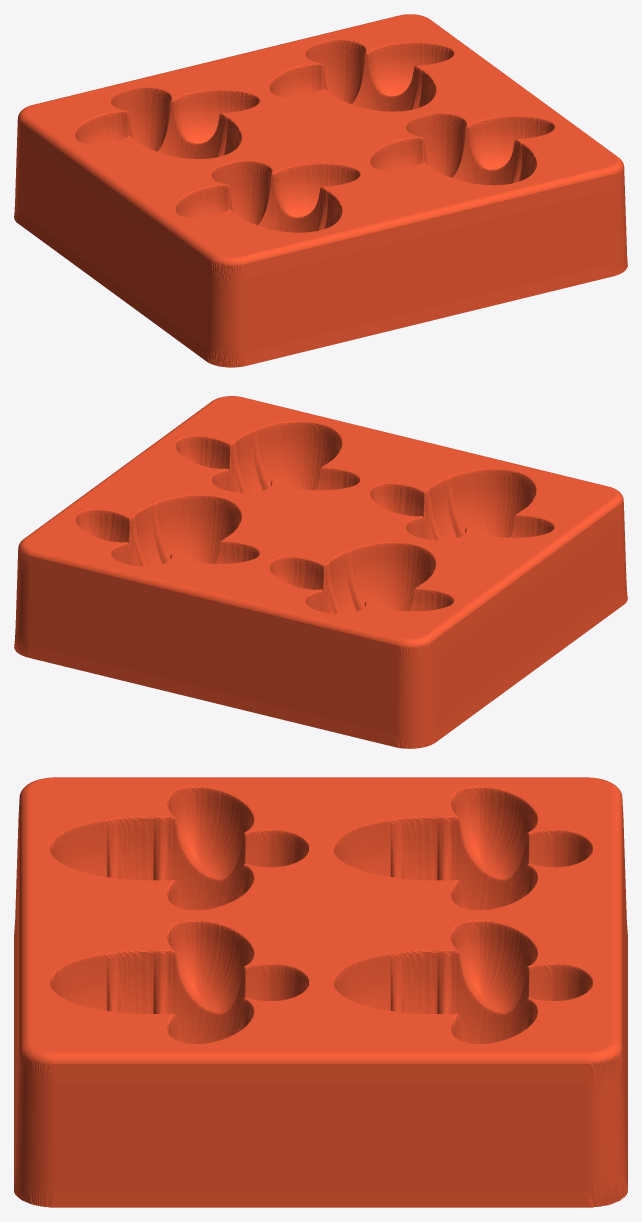
The model's file is mold.glb.
3 views of the same model, one above another, from view 1: azimuth 30°, elevation 25°; view 2: azimuth 150°, elevation 25°; view 3: azimuth 270°, elevation 25° (orthographic). The views are drawn at different scales.
Visible parts, largest first — view 1: geometry_0; view 2: geometry_0; view 3: geometry_0.
Boxes of the visible parts, x1,y1,x2,y2 form: geometry_0: (14, 14, 627, 367); geometry_0: (14, 396, 627, 748); geometry_0: (14, 777, 627, 1207).
Size of the model in its own units: 0.1493 by 0.036 by 0.1348.
